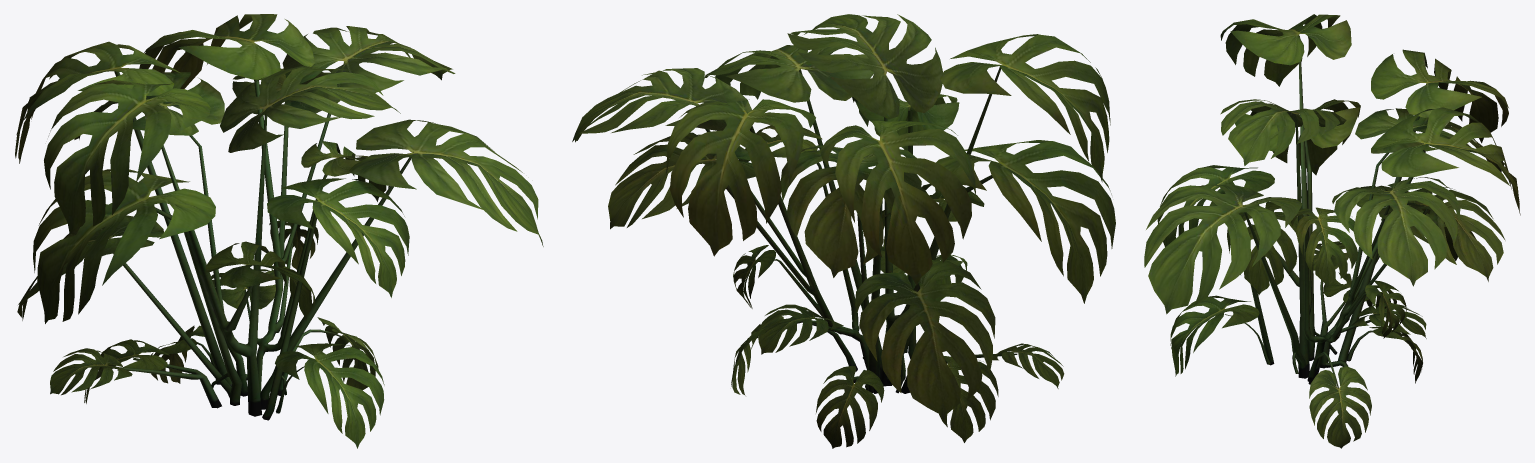
File: plantleaves2_L.glb
The picture shows the model from 3 angles, left to right: view 1: azimuth 30°, elevation 25°; view 2: azimuth 150°, elevation 25°; view 3: azimuth 270°, elevation 25°; orthographic projection. The views are drawn at different scales.
Visible parts, largest first — view 1: stalk.001, stalk.003, stalk.009, stalk.004, stalk.013, stalk.012, stalk.008, stalk.005, stalk.010, stalk.011, stalk.007, stalk.006; view 2: stalk.003, stalk.001, stalk.012, stalk.011, stalk.009, stalk.010, stalk.004, stalk.005, stalk.006, stalk.013, stalk.007, stalk.008; view 3: stalk.003, stalk.001, stalk.004, stalk.012, stalk.007, stalk.009, stalk.008, stalk.013, stalk.010, stalk.005, stalk.006, stalk.011.
Part boxes in pixels (box(x1,y1,x2,y2)): stalk.001: box(44, 66, 400, 416); stalk.003: box(139, 14, 455, 394); stalk.009: box(33, 169, 242, 405); stalk.004: box(260, 119, 543, 409); stalk.013: box(262, 178, 409, 420); stalk.012: box(15, 41, 232, 386); stalk.008: box(275, 343, 384, 448); stalk.005: box(50, 339, 221, 408); stalk.010: box(69, 72, 247, 396); stalk.011: box(17, 215, 231, 397); stalk.007: box(277, 317, 378, 395); stalk.006: box(151, 325, 220, 384); stalk.003: box(572, 68, 877, 393); stalk.001: box(787, 14, 1110, 386); stalk.012: box(819, 120, 975, 390); stalk.011: box(855, 260, 995, 420); stalk.009: box(895, 140, 1115, 393); stalk.010: box(780, 145, 921, 382); stalk.004: box(704, 45, 882, 375); stalk.005: box(901, 343, 1064, 442); stalk.006: box(816, 365, 884, 448); stalk.013: box(852, 94, 959, 359); stalk.007: box(731, 316, 857, 395); stalk.008: box(880, 246, 967, 352); stalk.003: box(1290, 107, 1520, 384); stalk.001: box(1220, 14, 1351, 378); stalk.004: box(1144, 184, 1306, 376); stalk.012: box(1338, 49, 1508, 362); stalk.007: box(1307, 352, 1371, 448); stalk.009: box(1235, 99, 1360, 360); stalk.008: box(1170, 295, 1270, 376); stalk.013: box(1157, 165, 1274, 365); stalk.010: box(1320, 108, 1504, 368); stalk.005: box(1313, 241, 1396, 335); stalk.006: box(1347, 326, 1422, 383); stalk.011: box(1334, 185, 1476, 325).
Bounding box in the file's own units: 1.12 × 0.8971 × 0.9387.
Materials: 1 (1 with a texture image).
